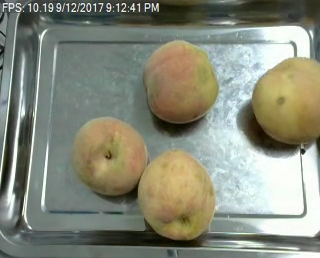Peach: (138, 147, 216, 241), (143, 38, 218, 124), (251, 56, 319, 145), (72, 116, 147, 196)
